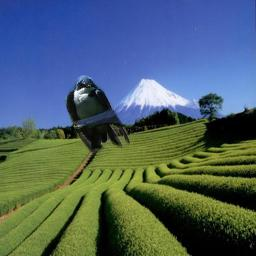Swallow: (64, 75, 133, 157)
